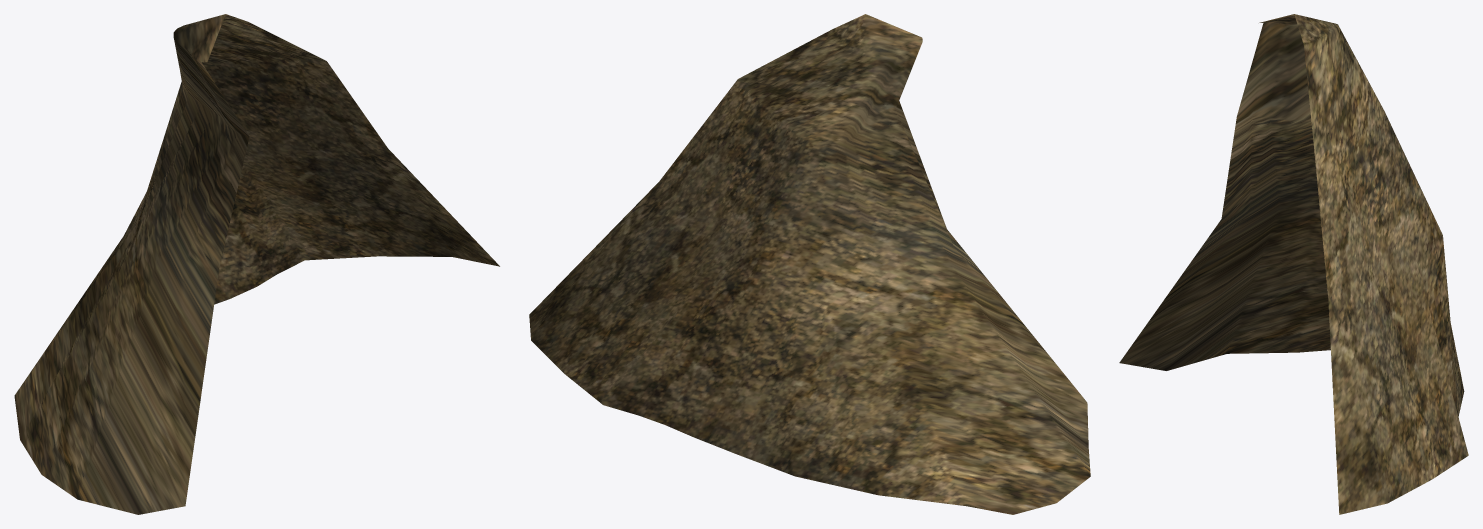
The model's file is CH09_SMAUG_PLAYSURFACE_LONELYMOUNTAIN_LM_PLAYSURFACE17.fbx.
3 views of the same model, side by side, from view 1: azimuth 30°, elevation 25°; view 2: azimuth 150°, elevation 25°; view 3: azimuth 270°, elevation 25° (orthographic). The views are drawn at different scales.
Parts seen in each view (by area): view 1: CH09_SMAUG_PLAYSURFACE_LONELYMOUNTAIN_LM_PLAYSURFACE17; view 2: CH09_SMAUG_PLAYSURFACE_LONELYMOUNTAIN_LM_PLAYSURFACE17; view 3: CH09_SMAUG_PLAYSURFACE_LONELYMOUNTAIN_LM_PLAYSURFACE17.
Boxes of the visible parts, box(x1,y1,x2,y2) form: CH09_SMAUG_PLAYSURFACE_LONELYMOUNTAIN_LM_PLAYSURFACE17: box(14, 14, 499, 514); CH09_SMAUG_PLAYSURFACE_LONELYMOUNTAIN_LM_PLAYSURFACE17: box(529, 14, 1090, 514); CH09_SMAUG_PLAYSURFACE_LONELYMOUNTAIN_LM_PLAYSURFACE17: box(1119, 14, 1468, 514).
Size of the model in its own units: 149118 by 124682 by 91392.
Materials: 1 (1 with a texture image).
